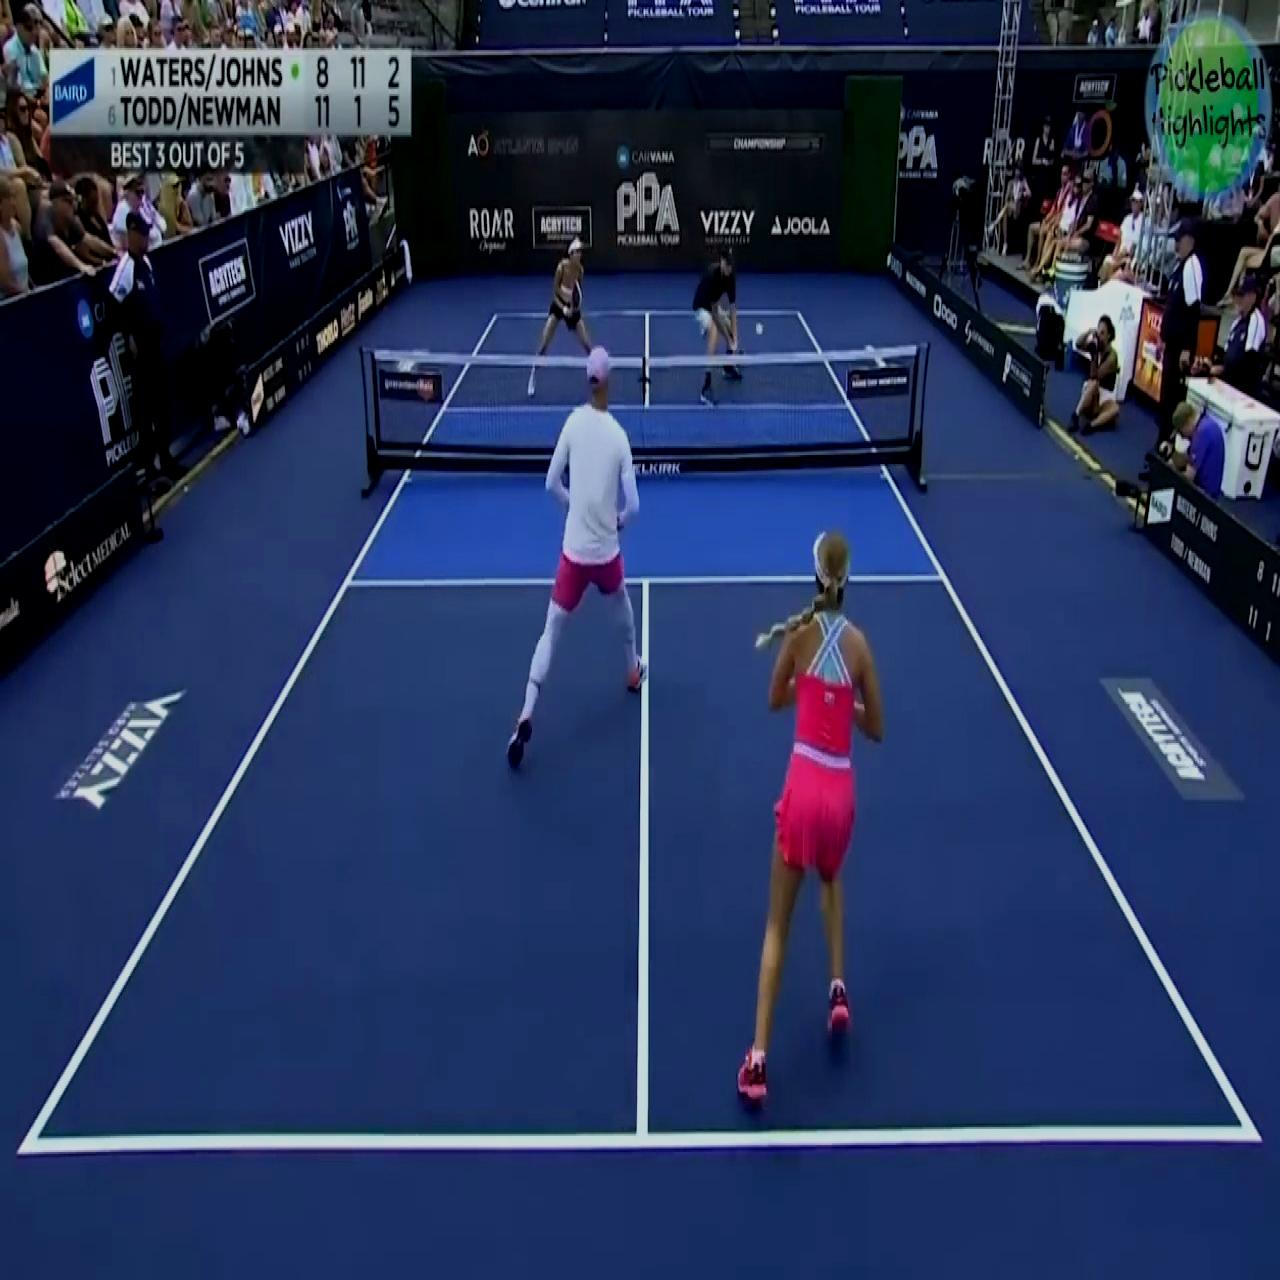Pickleball: (754, 319, 765, 340)
